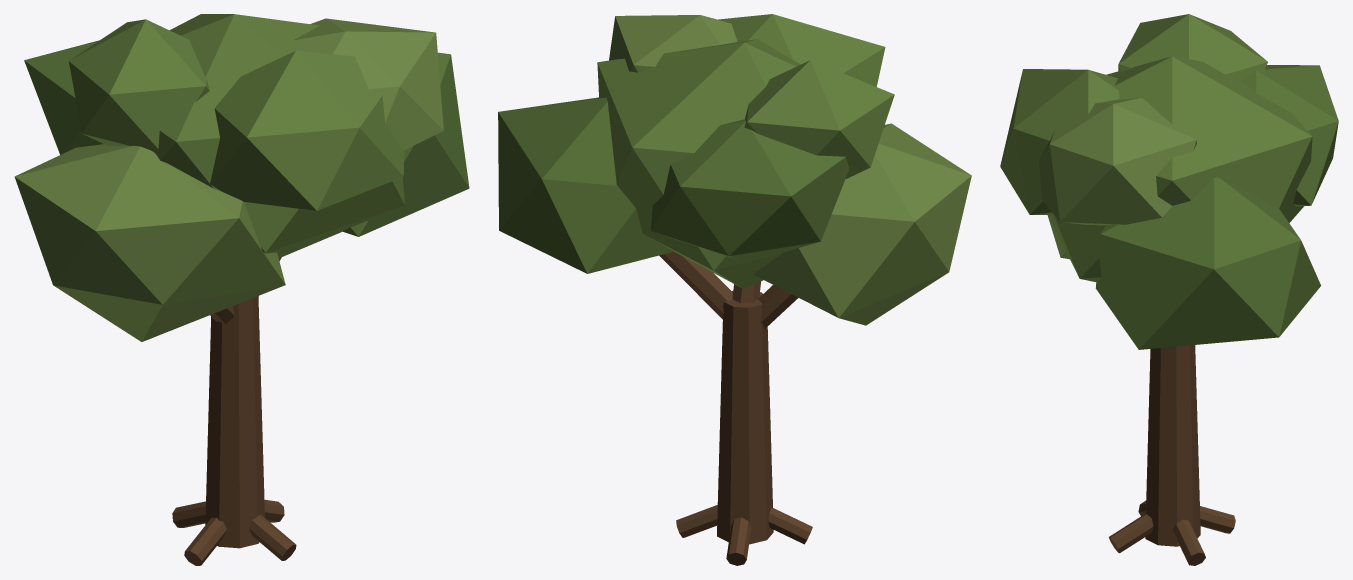
The model's file is OakTree.glb.
3 renders of one model, left to right at view 1: azimuth 30°, elevation 25°; view 2: azimuth 150°, elevation 25°; view 3: azimuth 270°, elevation 25°, orthographic. The views are drawn at different scales.
Visible parts, largest first — view 1: OakTree.001; view 2: OakTree.001; view 3: OakTree.001.
Part boxes in pixels (<box>): OakTree.001: <box>14,14,469,565</box>; OakTree.001: <box>498,14,971,565</box>; OakTree.001: <box>1000,14,1338,565</box>.
Bounding box in the file's own units: 5.55 × 6.48 × 4.03.
